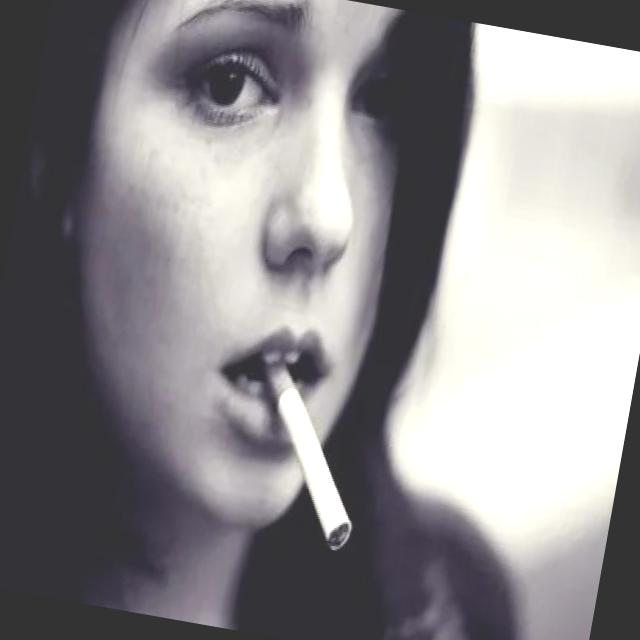smoke: (236, 356, 380, 554)
